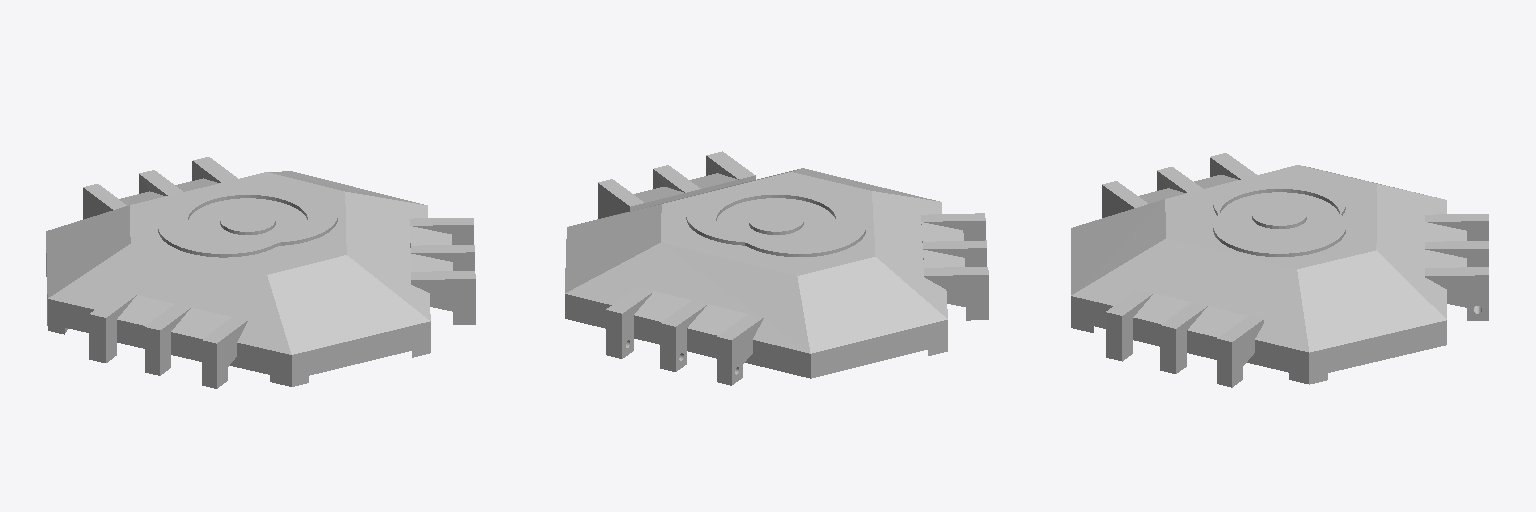
The model's file is interest capsule-5-noedit-head.obj.
The picture shows the model from 3 angles: view 1: azimuth 30°, elevation 25°; view 2: azimuth 150°, elevation 25°; view 3: azimuth 270°, elevation 25°; orthographic projection.
Parts seen in each view (by area): view 1: 圆柱.1; view 2: 圆柱.1; view 3: 圆柱.1.
Boxes of the visible parts, x1=… form: 圆柱.1: x1=46, y1=157, x2=475, y2=388; 圆柱.1: x1=565, y1=151, x2=988, y2=385; 圆柱.1: x1=1071, y1=153, x2=1488, y2=387.
Size of the model in its own units: 709 by 132 by 661.